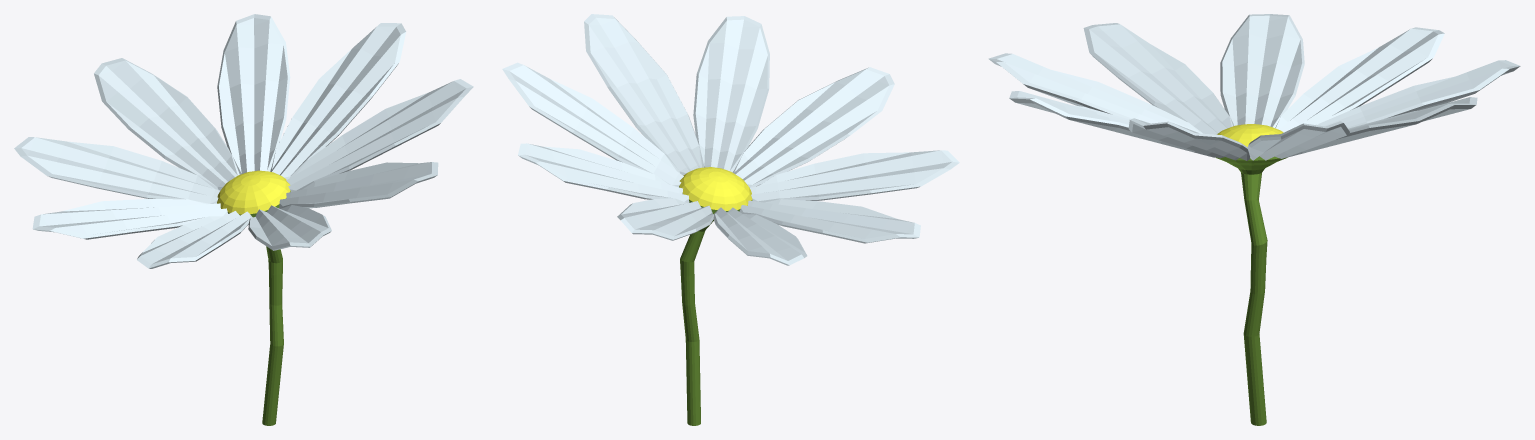
Rendered from flower1.fbx.
The picture shows the model from 3 angles, left to right: view 1: azimuth 30°, elevation 25°; view 2: azimuth 150°, elevation 25°; view 3: azimuth 270°, elevation 25°; orthographic projection. The views are drawn at different scales.
Visible parts, largest first — view 1: Circle; view 2: Circle; view 3: Circle.
Boxes of the visible parts, x1,y1,x2,y2 form: Circle: (14, 14, 473, 425); Circle: (502, 14, 959, 425); Circle: (988, 14, 1520, 425).
Size of the model in its own units: 10.27 by 8.43 by 10.58.
